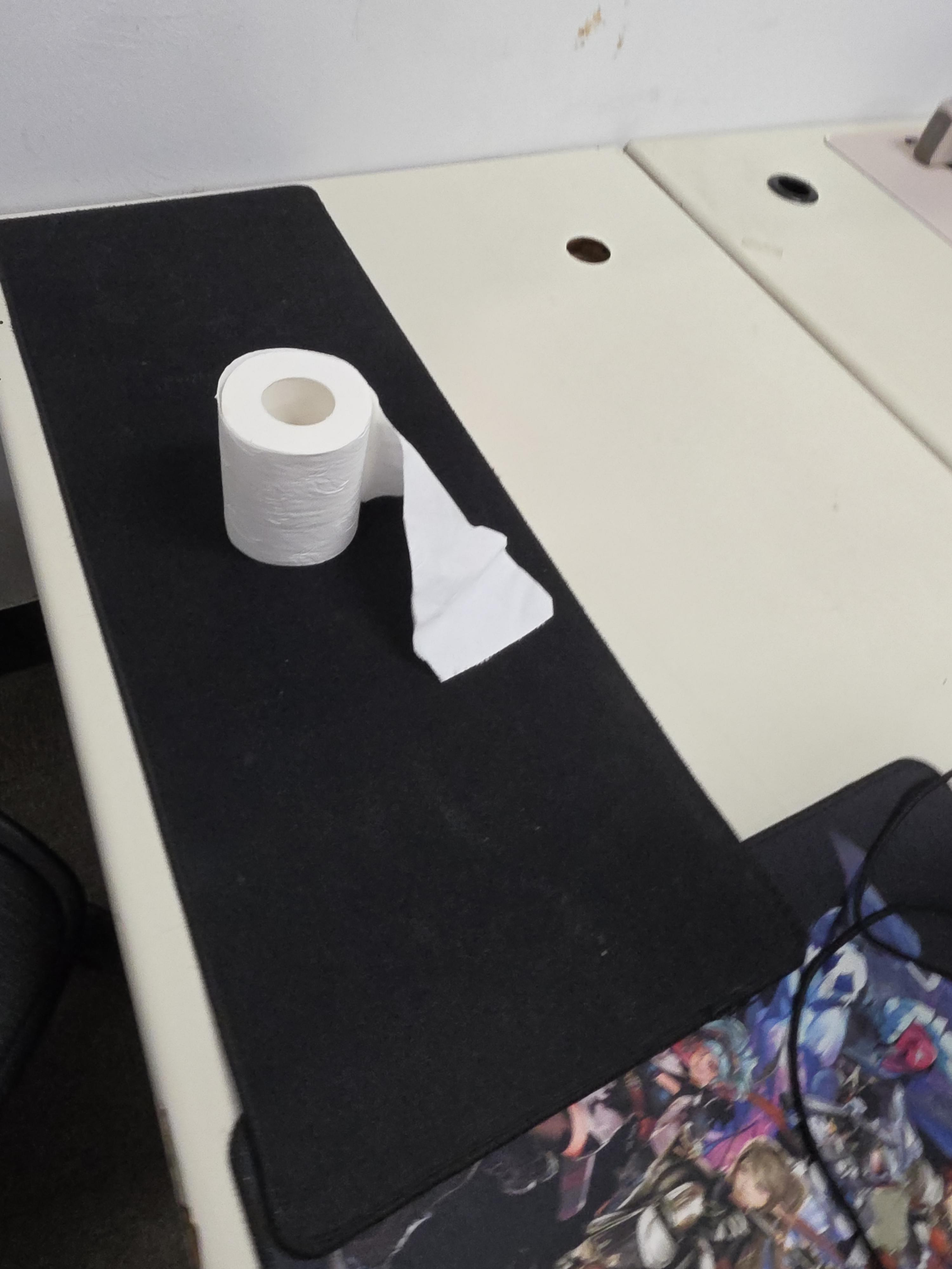tissue: (216, 347, 555, 683)
